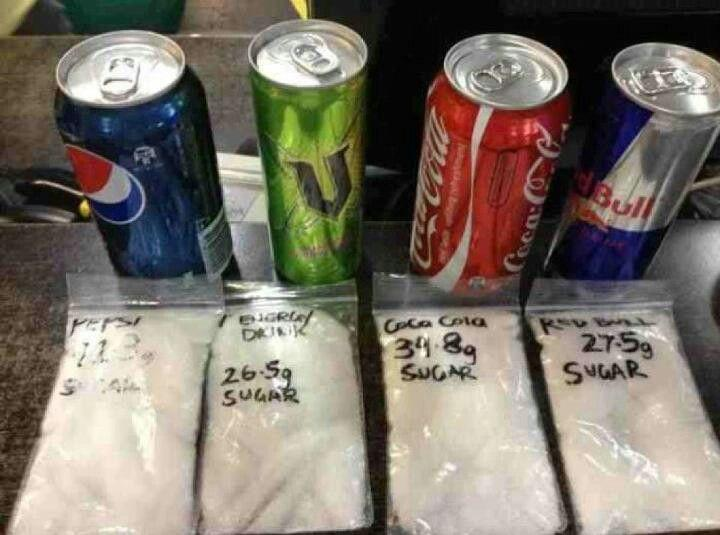can: (50, 24, 243, 298), (539, 39, 720, 304), (404, 24, 572, 305), (239, 12, 377, 291)
